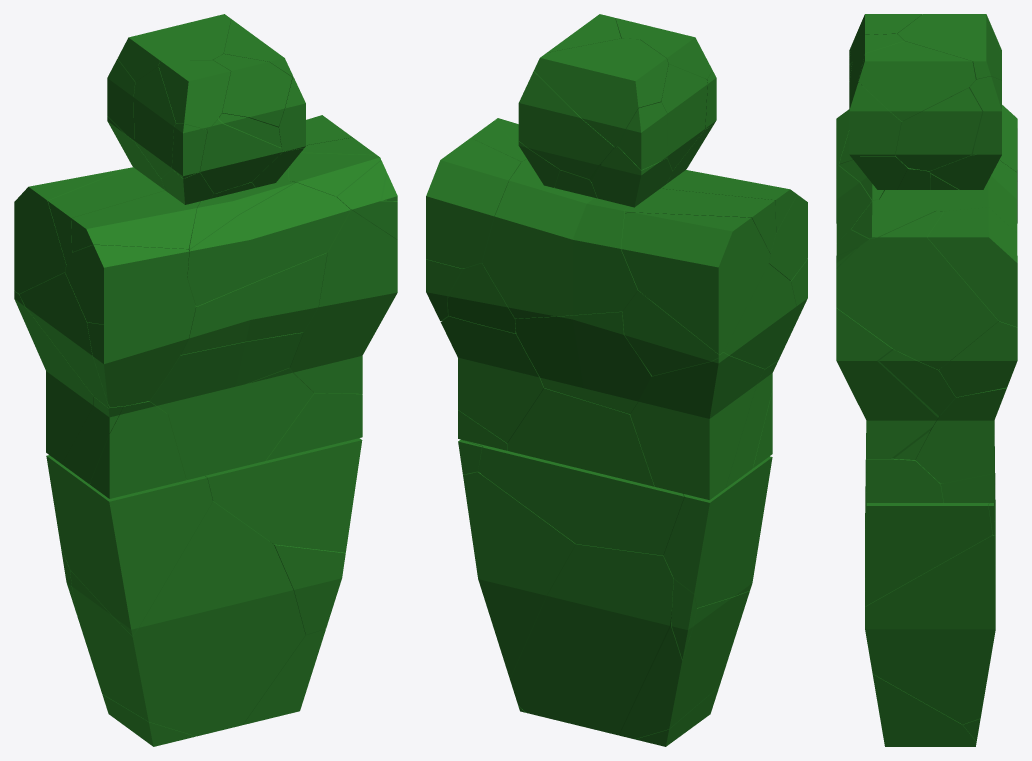
Rendered from Target_Green_Broken.fbx.
3 renders of one model, left to right at view 1: azimuth 30°, elevation 25°; view 2: azimuth 150°, elevation 25°; view 3: azimuth 270°, elevation 25°, orthographic.
Parts seen in each view (by area): view 1: Cube.003_cell.011, Cube.003_cell.001, Cube.004_cell.011, Cube.003_cell.005, Cube.004_cell.029, Cube.004_cell.013, Cube.004_cell.021, Cube.004_cell.019, Cube.004_cell.003, Cube.004_cell, Cube.004_cell.015, Cube.004_cell.030 (+26 smaller); view 2: Cube.003_cell.006, Cube.004_cell.020, Cube.004_cell.022, Cube.004_cell.009, Cube.003_cell.003, Cube.003_cell.010, Cube.003_cell.001, Cube.004_cell.014, Cube.005_cell.017, Cube.003_cell.011, Cube.004_cell.006, Cube.004_cell.026 (+24 smaller); view 3: Cube.003_cell.010, Cube.004_cell.008, Cube.003_cell.005, Cube.004_cell.011, Cube.004_cell.026, Cube.005_cell.005, Cube.004_cell.010, Cube.005_cell.012, Cube.003_cell.004, Cube.005_cell.017, Cube.004_cell.025, Cube.004_cell.020 (+16 smaller).
Part boxes in pixels (x1,y1,x2,y2): Cube.003_cell.011: (70, 501, 305, 736); Cube.003_cell.001: (46, 455, 212, 635); Cube.004_cell.011: (289, 209, 397, 393); Cube.003_cell.005: (205, 438, 362, 552); Cube.004_cell.029: (187, 182, 350, 306); Cube.004_cell.013: (168, 368, 313, 479); Cube.004_cell.021: (87, 278, 195, 407); Cube.004_cell.019: (181, 253, 327, 354); Cube.004_cell.003: (65, 245, 189, 324); Cube.004_cell: (89, 401, 186, 498); Cube.004_cell.015: (150, 332, 303, 413); Cube.004_cell.030: (71, 190, 200, 252); Cube.003_cell.006: (510, 544, 673, 735); Cube.004_cell.020: (482, 159, 648, 318); Cube.004_cell.022: (621, 212, 770, 354); Cube.004_cell.009: (630, 349, 764, 499); Cube.003_cell.003: (478, 446, 684, 555); Cube.003_cell.010: (463, 472, 575, 678); Cube.003_cell.001: (663, 456, 772, 607); Cube.004_cell.014: (514, 311, 652, 413); Cube.005_cell.017: (534, 38, 668, 146); Cube.003_cell.011: (619, 590, 749, 739); Cube.004_cell.006: (507, 388, 654, 486); Cube.004_cell.026: (426, 138, 520, 268); Cube.003_cell.010: (865, 522, 995, 724); Cube.004_cell.008: (836, 211, 998, 369); Cube.003_cell.005: (865, 492, 992, 606); Cube.004_cell.011: (836, 308, 938, 458); Cube.004_cell.026: (927, 207, 1017, 327); Cube.005_cell.005: (858, 41, 975, 121); Cube.004_cell.010: (915, 387, 1006, 483); Cube.005_cell.012: (895, 88, 982, 170); Cube.003_cell.004: (872, 674, 976, 746); Cube.005_cell.017: (897, 14, 1001, 80); Cube.004_cell.025: (939, 321, 1017, 397); Cube.004_cell.020: (879, 160, 1017, 232).
Bounding box in the file's own units: 175 × 380 × 92.66.
